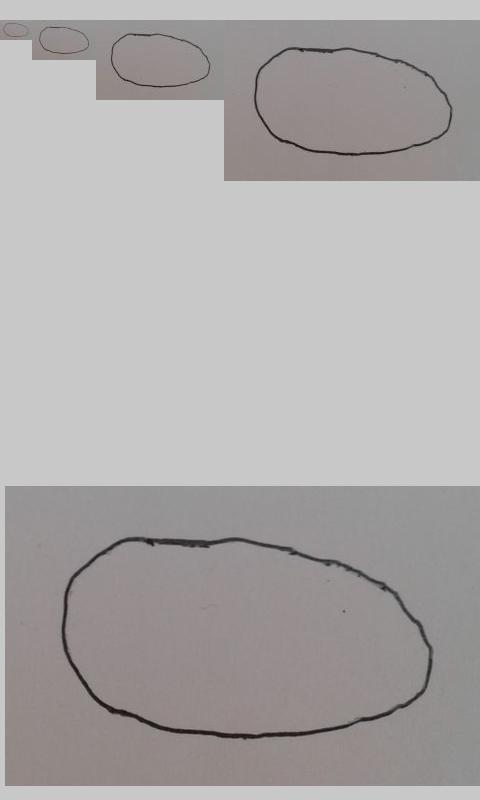chip: (62, 536, 435, 740), (254, 47, 453, 156), (110, 33, 211, 88), (38, 26, 90, 55), (3, 22, 30, 38)
